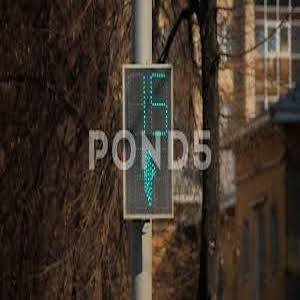green: (134, 141, 166, 208)
